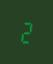two: (19, 19, 31, 44)
